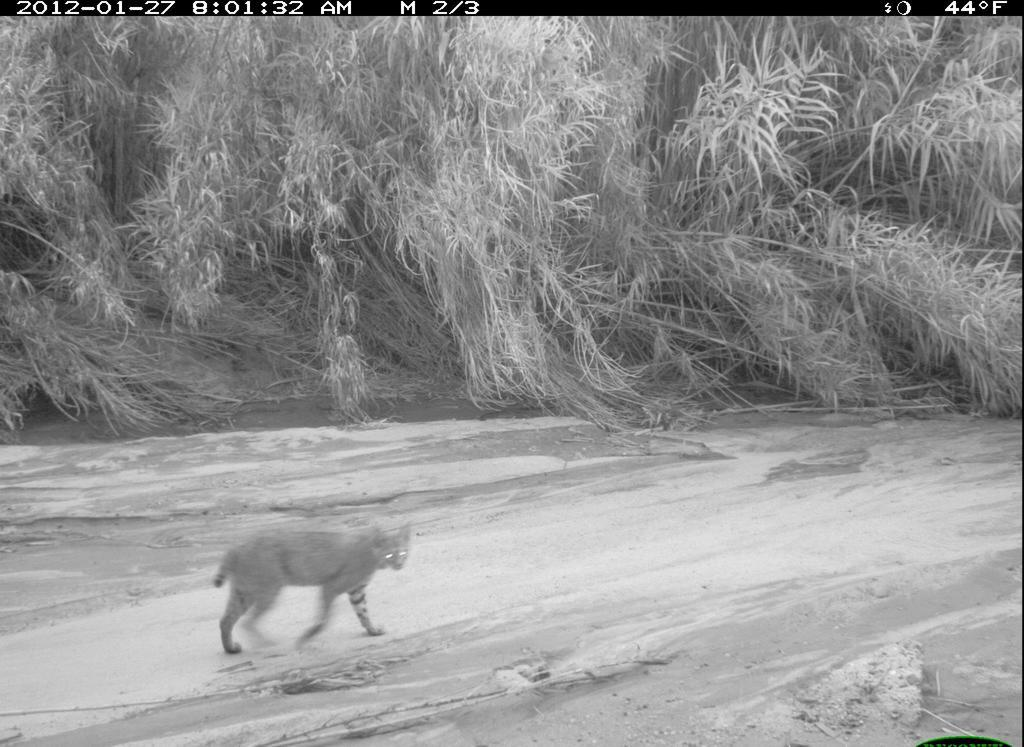bobcat: (210, 527, 414, 657)
